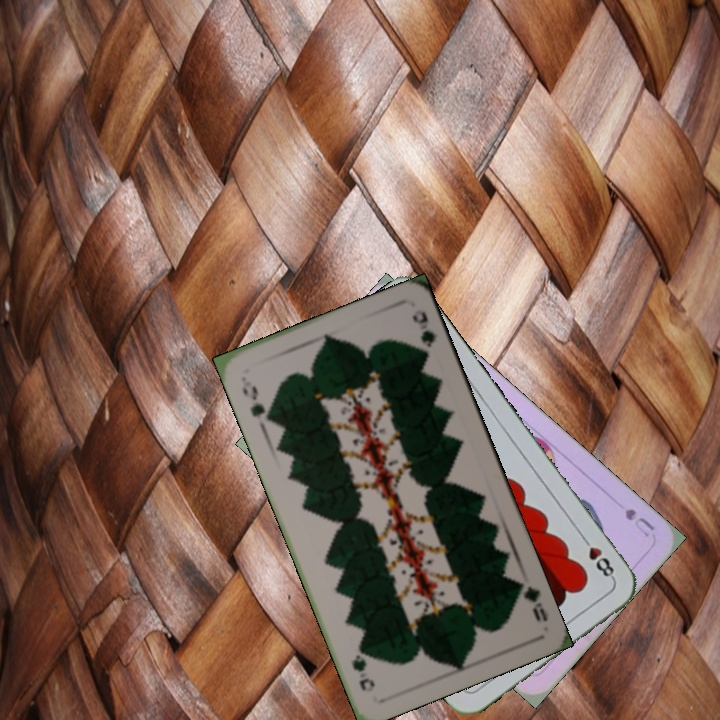G9: (510, 576, 550, 624), (238, 377, 274, 425)
H8: (577, 531, 617, 583)
SU: (621, 504, 657, 540)
